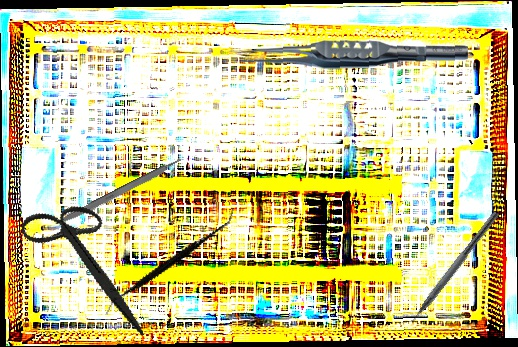Chopper: (397, 204, 500, 333)
Iris Scissors: (0, 190, 177, 336)
Scalpel Handle: (53, 156, 186, 229)
Spatula Surgical: (103, 177, 236, 346)
Tissue Forceps: (240, 35, 469, 73)
